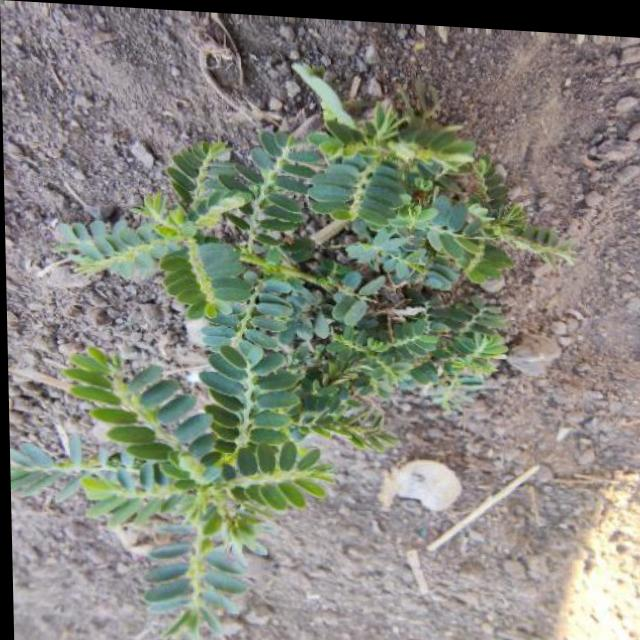weed: (25, 82, 566, 640)
